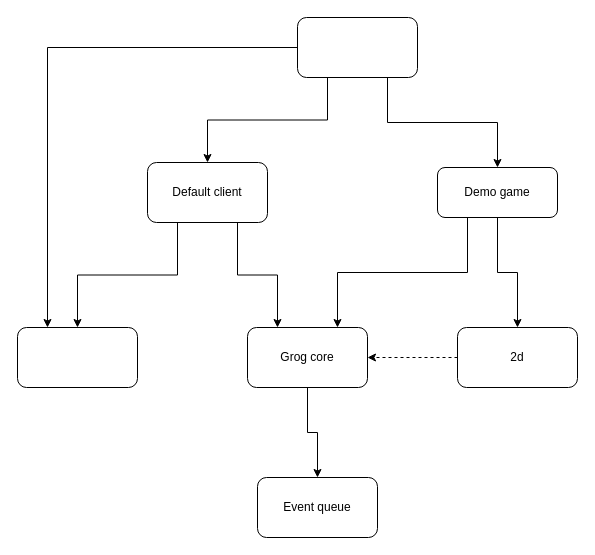
Image size: 595x555. Some labels were removed from this diagram. The box of each missing label's shape, as (x1, y1, x2, y2) in pixels:
Apps (room tester, main): (296, 16, 418, 78)
UI Tools: (16, 326, 138, 388)
